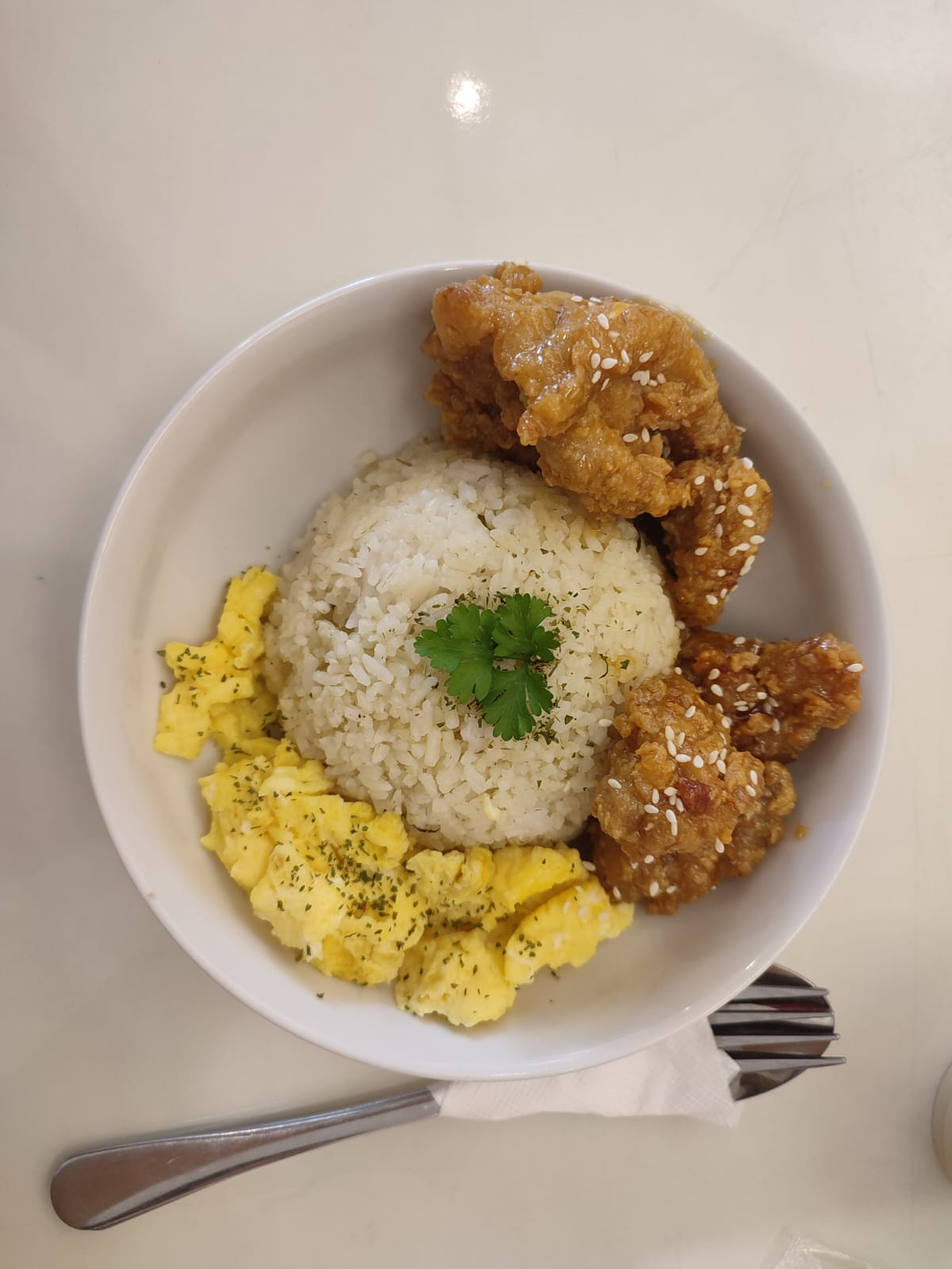daging: (495, 281, 750, 514)
makanan_berpati: (300, 433, 620, 828)
telur: (222, 850, 617, 1029)
